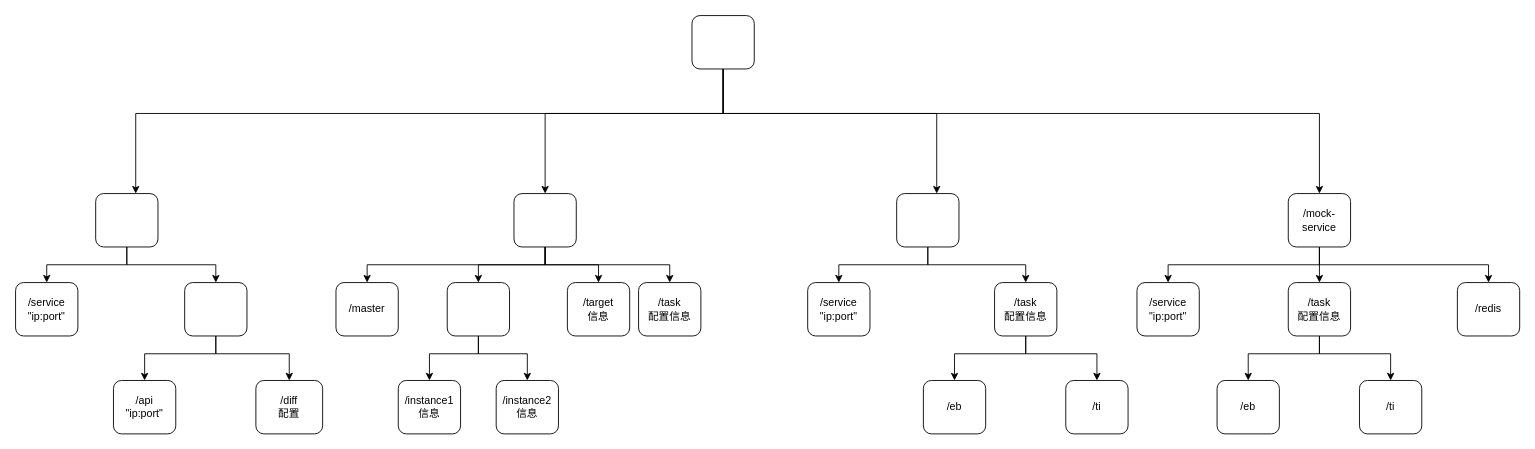
The diagram is 1535 pixels wide and 449 high, and some of its shapes have lost their labels. The shapes that lost their labels are listed below. From the top down, each one's centre as x and y in pixels, then its label:
At (722,42): "/test-center “ip:port”".
At (126,220): "/scrip-controller".
At (544,220): "/stress-tester".
At (927,220): "/data-manager".
At (215,309): "/test".
At (478,309): "/instance".
